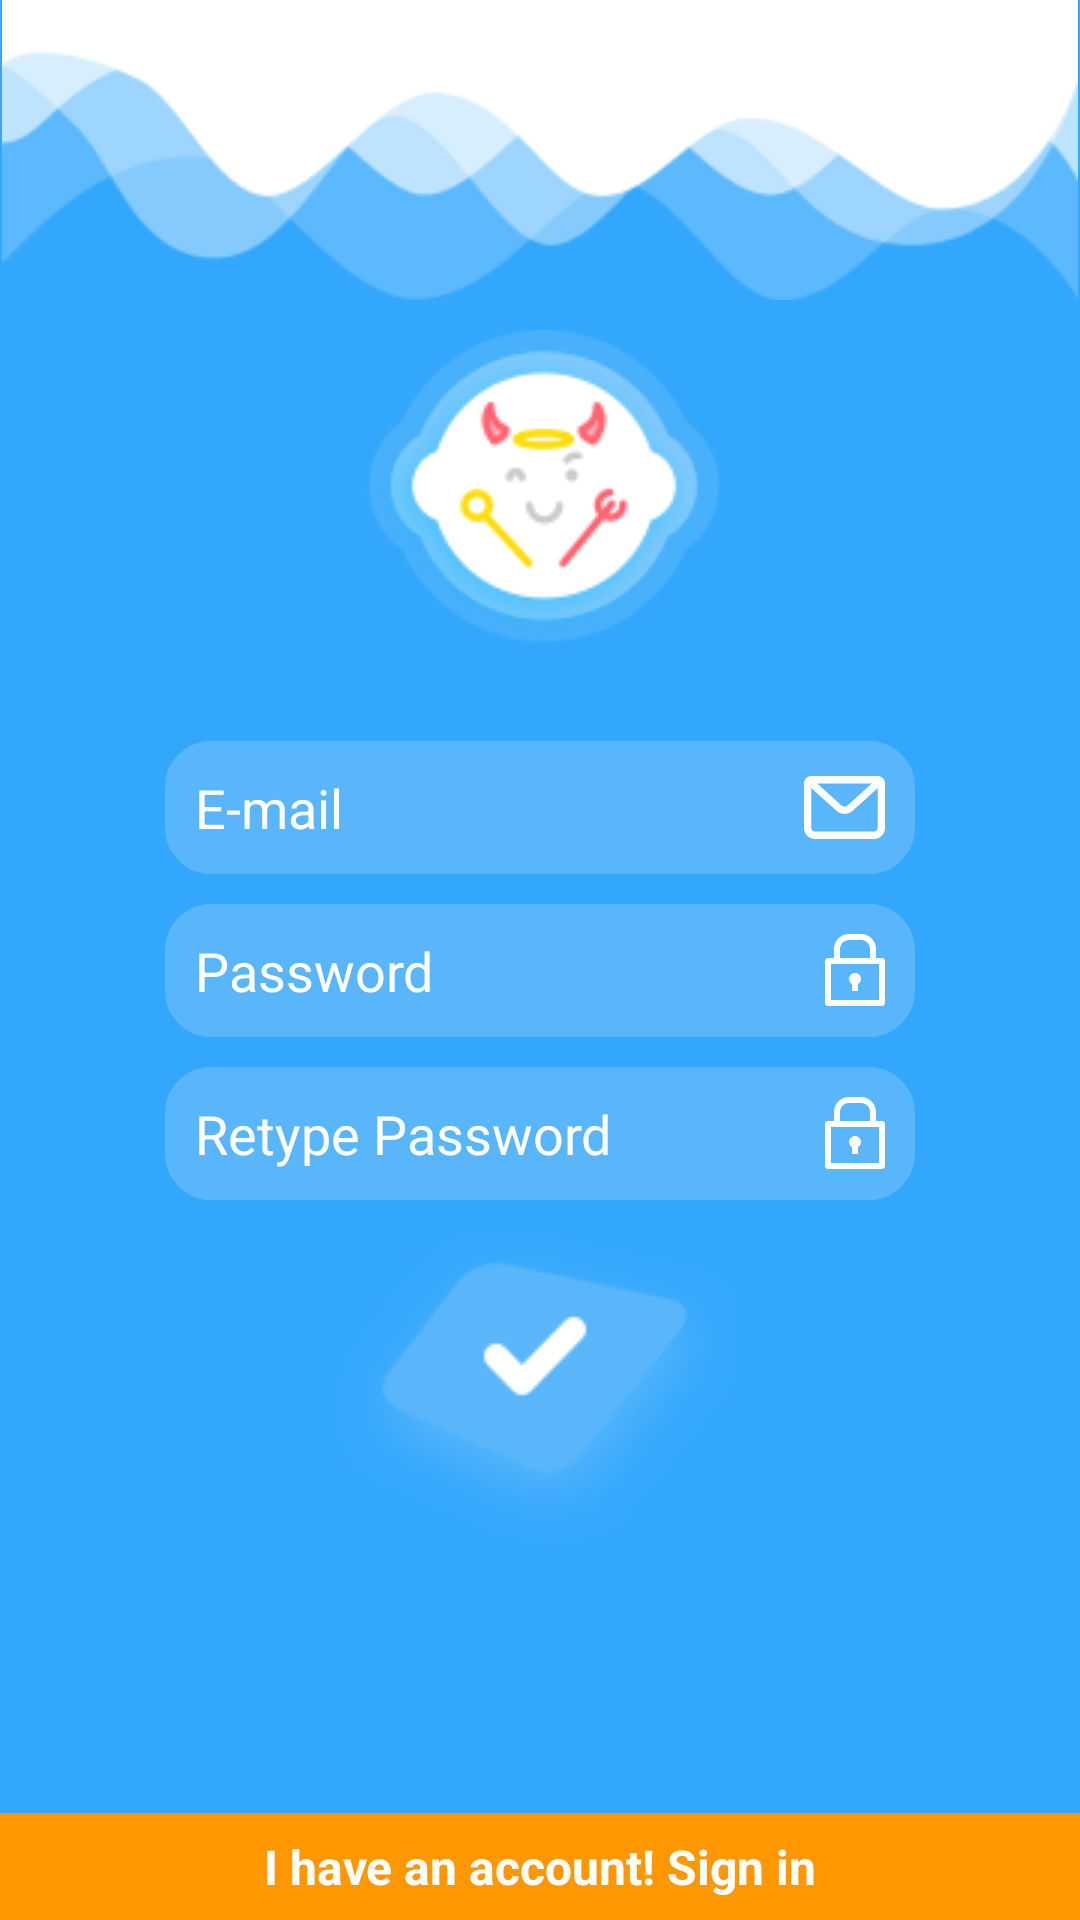

Icons on this 1080px×1920px Android screen, each with its box as (x1, y1, x2, y2):
icongo: (383, 1264, 686, 1475)
